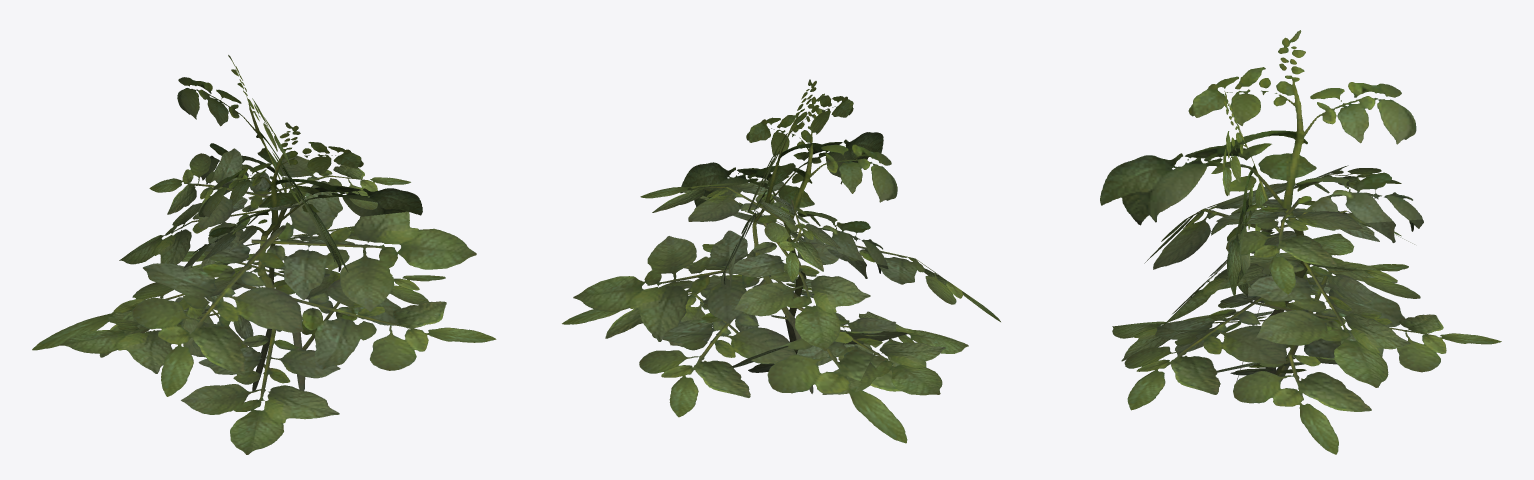
Rendered from bg_anh_foliage_crops13_sm_ksy.FBX.
3 renders of one model, left to right at view 1: azimuth 30°, elevation 25°; view 2: azimuth 150°, elevation 25°; view 3: azimuth 270°, elevation 25°, orthographic. The views are drawn at different scales.
Visible parts, largest first — view 1: bg_anh_foliage_crops13_sm_ksy; view 2: bg_anh_foliage_crops13_sm_ksy; view 3: bg_anh_foliage_crops13_sm_ksy.
Part boxes in pixels (x1,y1,x2,y2): bg_anh_foliage_crops13_sm_ksy: (32,55,496,454); bg_anh_foliage_crops13_sm_ksy: (562,79,1000,443); bg_anh_foliage_crops13_sm_ksy: (1100,30,1501,454).
Size of the model in its own units: 63.35 by 47.64 by 56.31.
